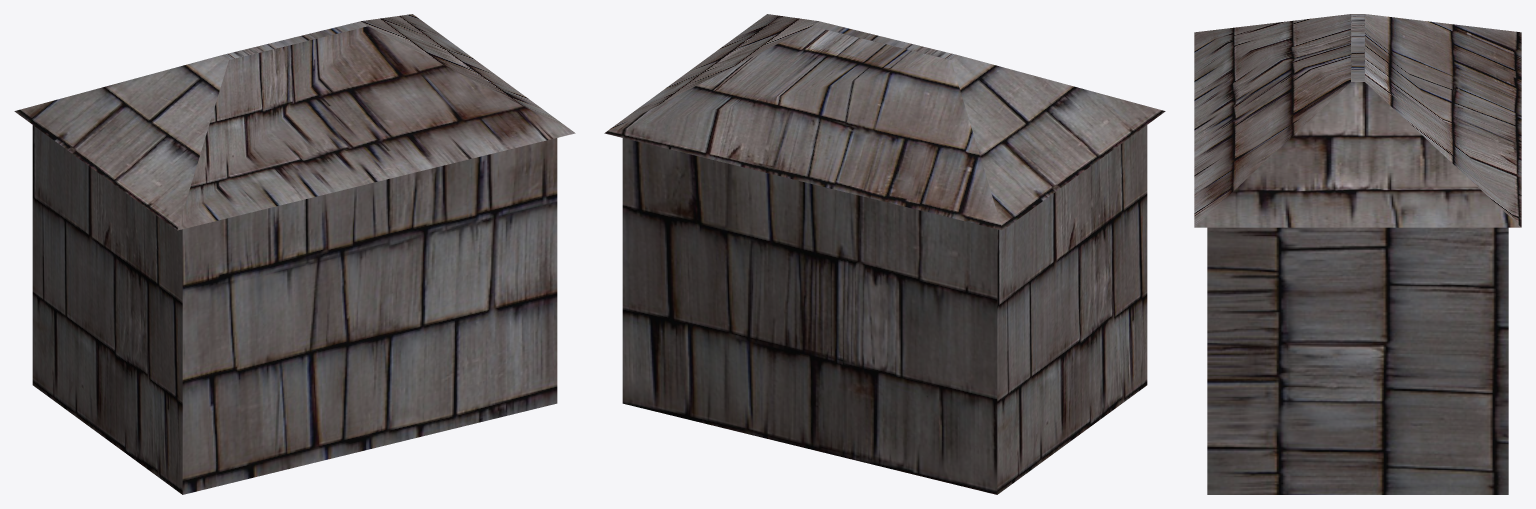
Rendered from Houses_MediumHouse3.obj.
The picture shows the model from 3 angles, left to right: view 1: azimuth 30°, elevation 25°; view 2: azimuth 150°, elevation 25°; view 3: azimuth 270°, elevation 25°; orthographic projection.
Visible parts, largest first — view 1: MediumHouse3; view 2: MediumHouse3; view 3: MediumHouse3.
Boxes of the visible parts, x1,y1,x2,y2 form: MediumHouse3: [14, 14, 575, 494]; MediumHouse3: [604, 14, 1165, 494]; MediumHouse3: [1194, 14, 1521, 494].
Bounding box in the file's own units: 76.67 × 65 × 54.33.
